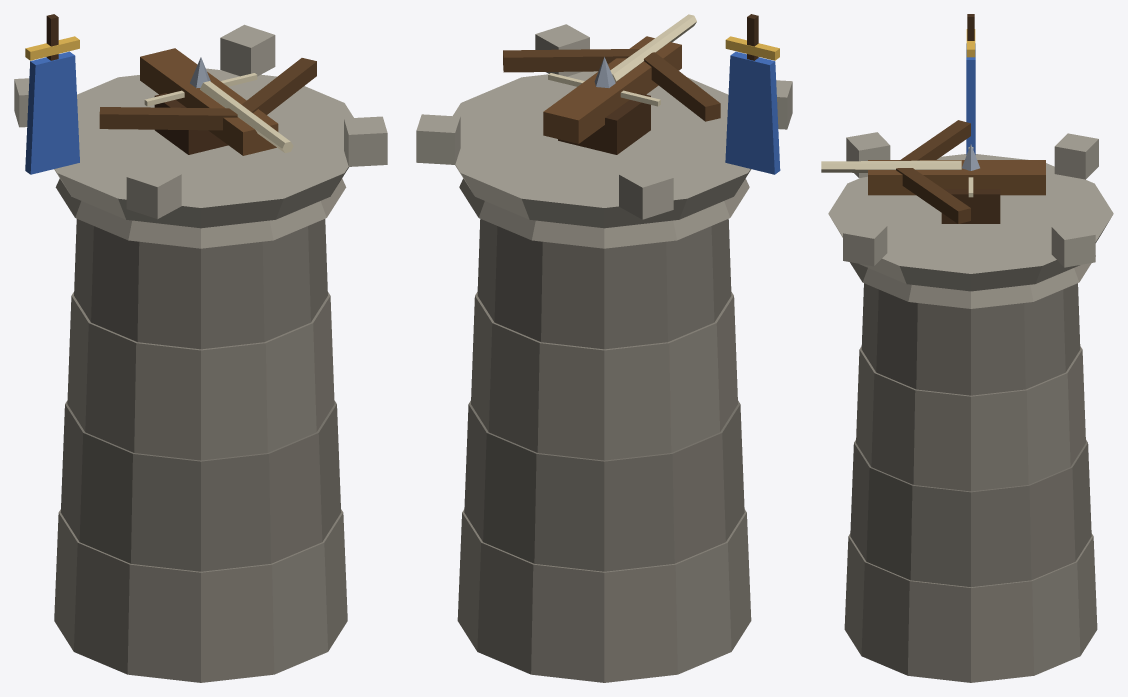
The model's file is tower_sniper_l2.glb.
3 views of the same model, side by side, from view 1: azimuth 30°, elevation 25°; view 2: azimuth 150°, elevation 25°; view 3: azimuth 270°, elevation 25° (orthographic). The views are drawn at different scales.
Parts seen in each view (by area): view 1: Body, Turret; view 2: Body, Turret; view 3: Body, Turret.
Part boxes in pixels (box(x1,y1,x2,y2)): Body: box(14, 14, 387, 682); Turret: box(99, 48, 316, 155); Body: box(416, 14, 792, 682); Turret: box(503, 14, 720, 154); Body: box(828, 14, 1113, 682); Turret: box(821, 120, 1045, 223).
Bounding box in the file's own units: 0.6725 × 1.3 × 0.625.
